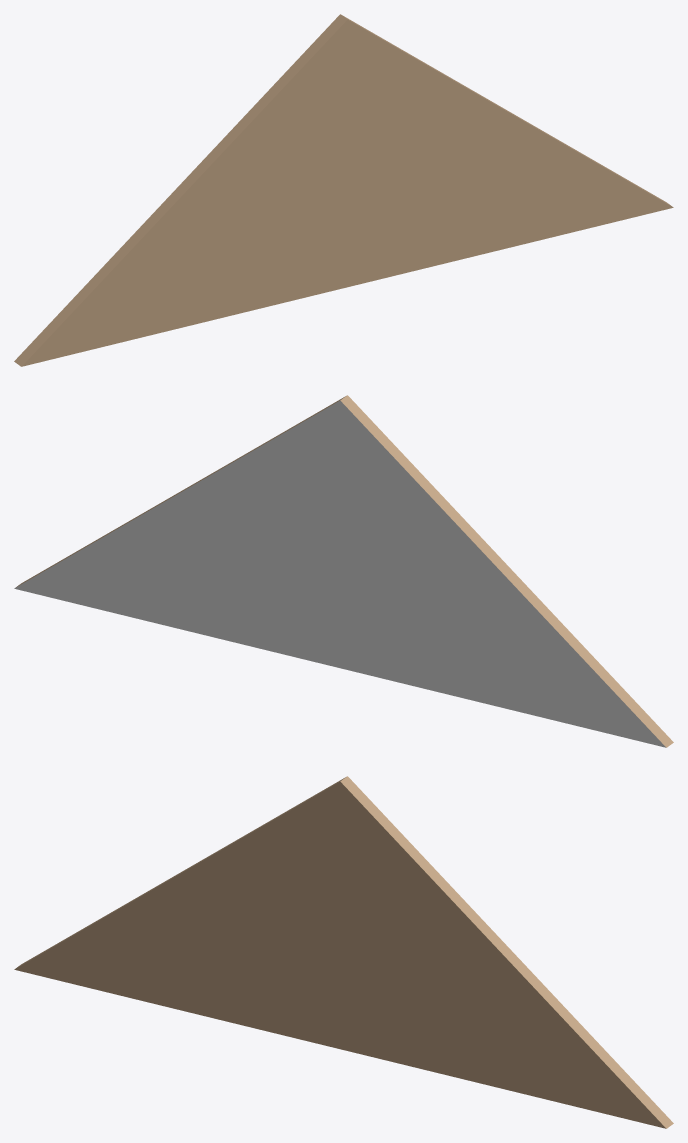
File: Wall1_C2_18.fbx
The picture shows the model from 3 angles, top to bottom: view 1: azimuth 30°, elevation 25°; view 2: azimuth 150°, elevation 25°; view 3: azimuth 330°, elevation 25°; orthographic projection.
Parts seen in each view (by area): view 1: Wall1_C2_18; view 2: Wall1_C2_18; view 3: Wall1_C2_18.
Part boxes in pixels (x1=…): Wall1_C2_18: x1=14, y1=14, x2=673, y2=366; Wall1_C2_18: x1=14, y1=395, x2=673, y2=747; Wall1_C2_18: x1=14, y1=776, x2=673, y2=1128.
Bounding box in the file's own units: 765 × 300 × 15.
